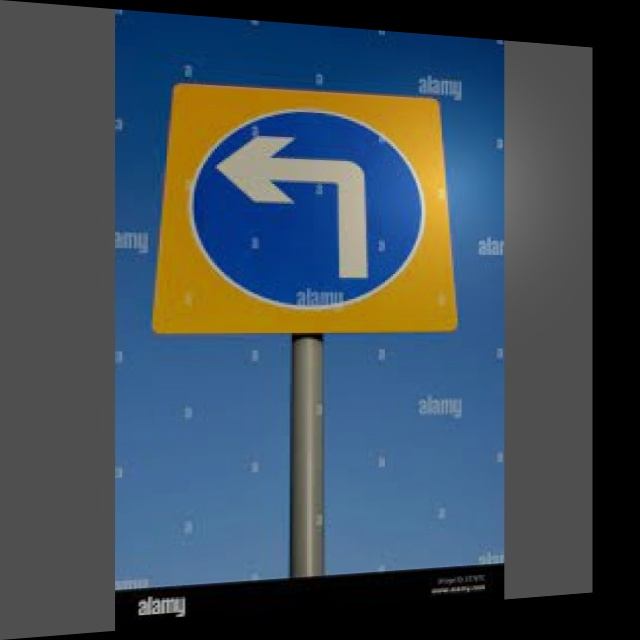Compulsory_Turn_Left_Ahead: (187, 97, 436, 319)
